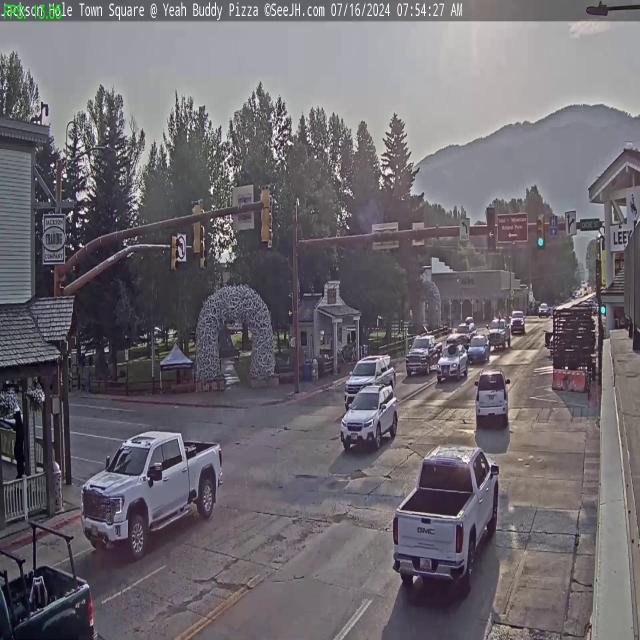pickup: (75, 426, 224, 556), (391, 440, 502, 598), (406, 334, 438, 375), (485, 318, 513, 352)
sedan: (468, 333, 490, 363)
suv: (337, 384, 399, 456), (343, 352, 396, 407), (473, 368, 513, 426), (436, 342, 468, 382), (510, 310, 527, 334)
traffic light: (190, 200, 203, 258), (260, 184, 272, 244), (171, 228, 181, 275), (486, 207, 496, 252), (536, 214, 546, 248)
